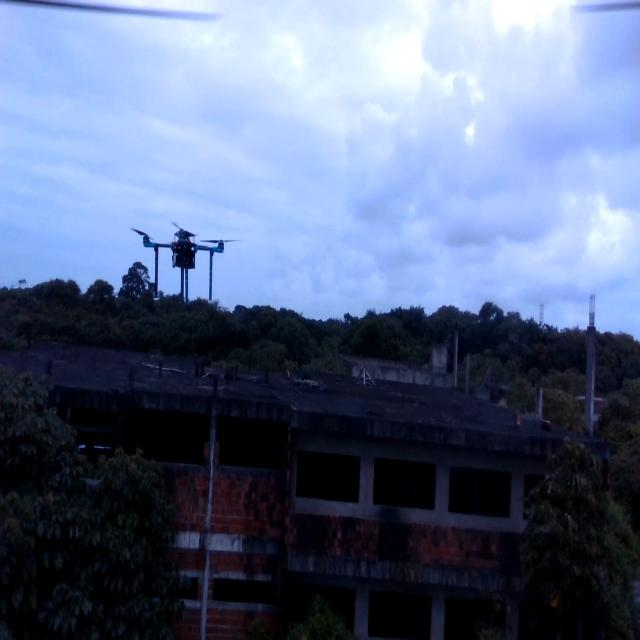-uav-: (123, 212, 246, 320)
